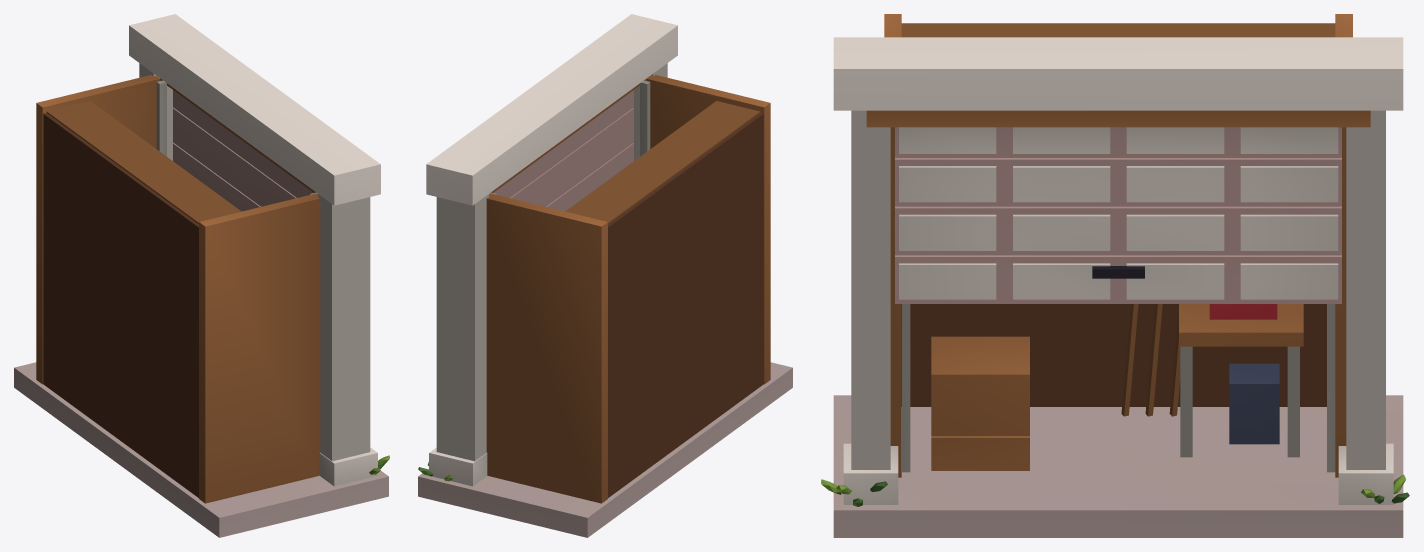
Rendered from house.garage.half.lod1.glb.
3 renders of one model, left to right at view 1: azimuth 30°, elevation 25°; view 2: azimuth 150°, elevation 25°; view 3: azimuth 270°, elevation 25°, orthographic. The views are drawn at different scales.
Bounding box in the file's own units: 1.29 × 2.34 × 2.69.
